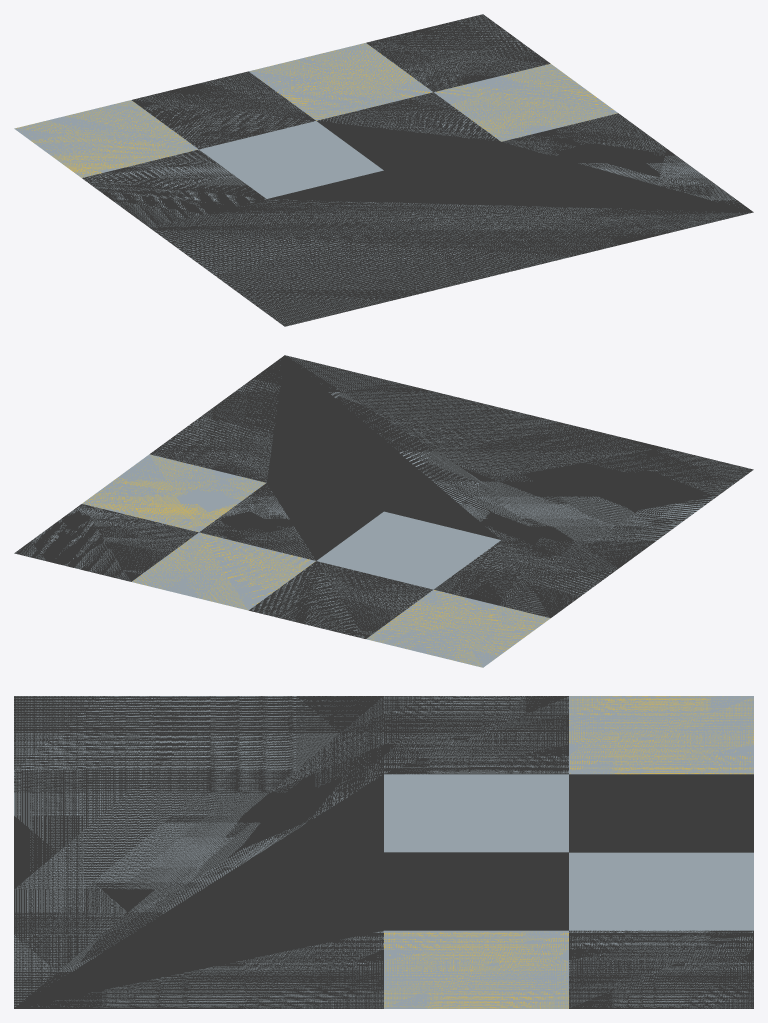
File: zebra_crossing_yellow_squares.fbx
3 renders of one model, top to bottom at view 1: azimuth 30°, elevation 25°; view 2: azimuth 150°, elevation 25°; view 3: azimuth 270°, elevation 25°, orthographic. The views are drawn at different scales.
Visible parts, largest first — view 1: Model; view 2: Model; view 3: Model.
Part boxes in pixels (left/top/right/bottom): Model: left=14, top=14, right=753, bottom=326; Model: left=14, top=355, right=753, bottom=667; Model: left=14, top=696, right=753, bottom=1008.
Size of the model in its own units: 4 by 0 by 4.
